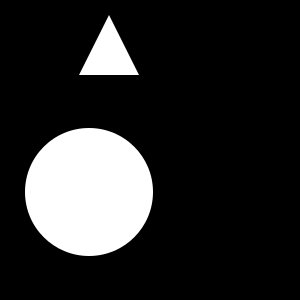rectangle: (25, 128, 153, 256)
triangle: (79, 15, 139, 75)
